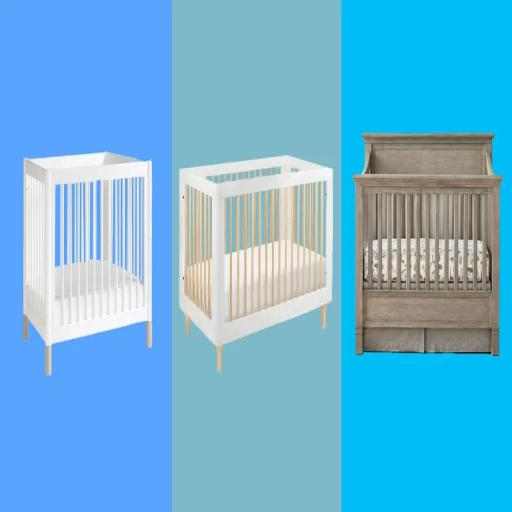crib: (180, 157, 332, 371), (354, 135, 501, 355), (24, 153, 151, 374)
